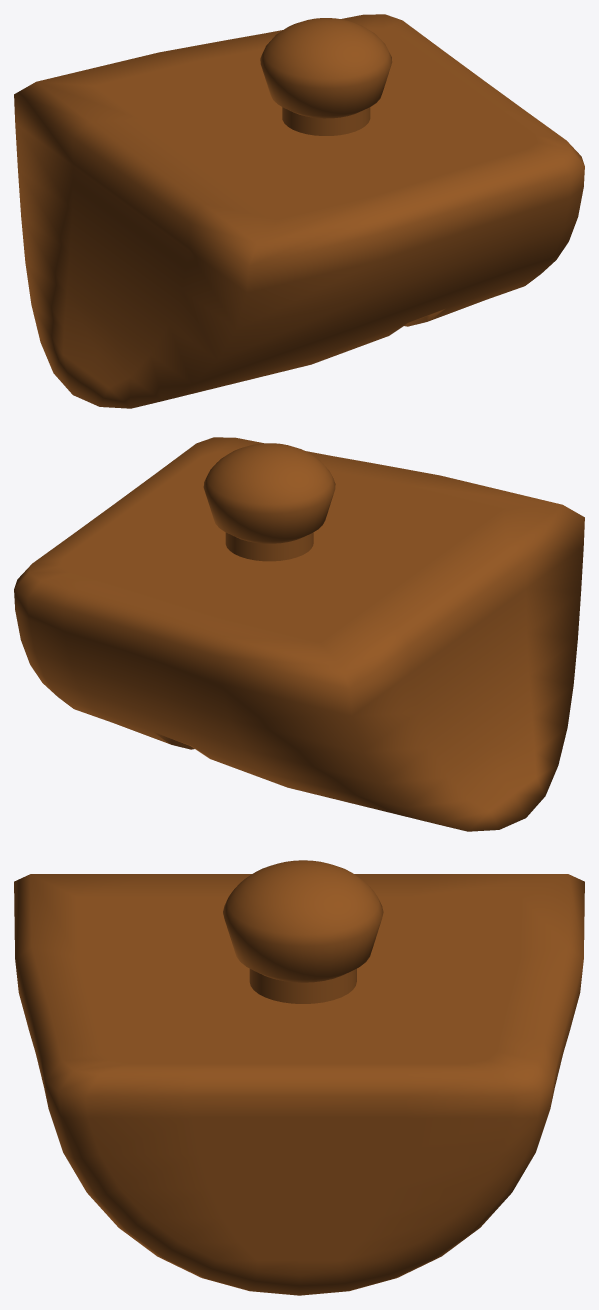
File: SM_Helmet_stamp.fbx
3 views of the same model, one above another, from view 1: azimuth 30°, elevation 25°; view 2: azimuth 150°, elevation 25°; view 3: azimuth 270°, elevation 25° (orthographic). The views are drawn at different scales.
Visible parts, largest first — view 1: SM_Helmet_Stamp; view 2: SM_Helmet_Stamp; view 3: SM_Helmet_Stamp.
Part boxes in pixels (x1,y1,x2,y2): SM_Helmet_Stamp: (14, 14, 584, 408); SM_Helmet_Stamp: (14, 437, 584, 831); SM_Helmet_Stamp: (14, 860, 584, 1295).
Size of the model in its own units: 24.26 by 16.81 by 23.45.
